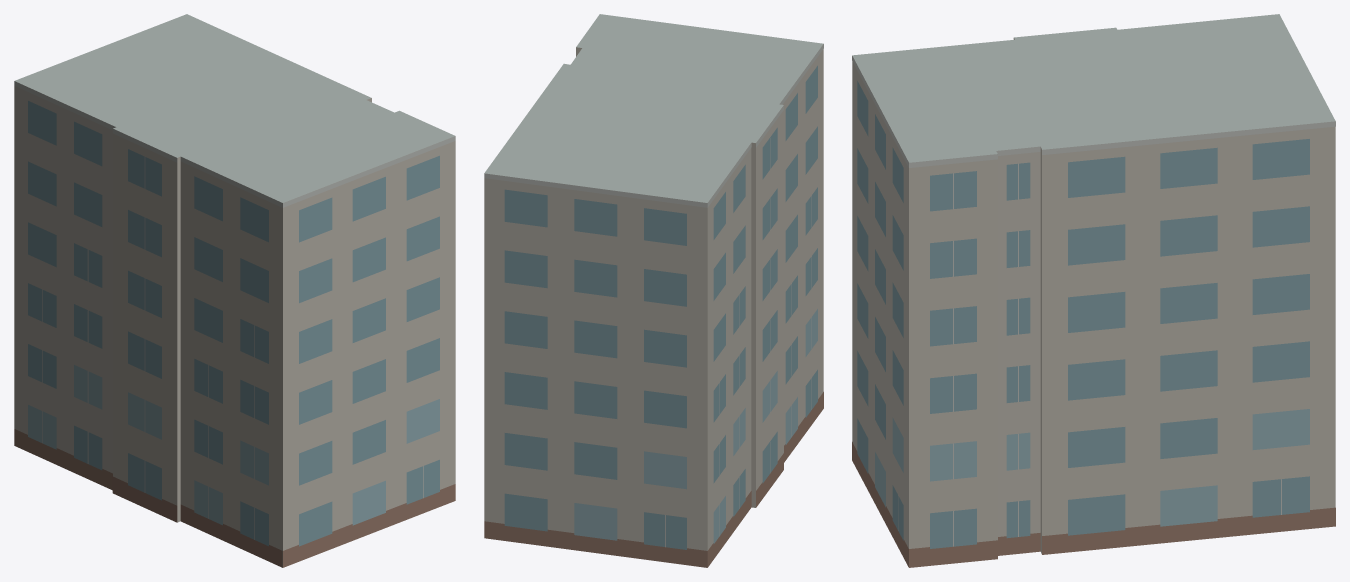
Rendered from survey-upis-32698527.glb.
The picture shows the model from 3 angles, left to right: view 1: azimuth 30°, elevation 25°; view 2: azimuth 150°, elevation 25°; view 3: azimuth 270°, elevation 25°; orthographic projection. The views are drawn at different scales.
Visible parts, largest first — view 1: survey-upis-32698527.tmp; view 2: survey-upis-32698527.tmp; view 3: survey-upis-32698527.tmp.
Part boxes in pixels (x1,y1,x2,y2): survey-upis-32698527.tmp: (14,14,455,567); survey-upis-32698527.tmp: (484,14,823,567); survey-upis-32698527.tmp: (852,14,1335,567).
Bounding box in the file's own units: 14.62 × 18.55 × 20.08.
